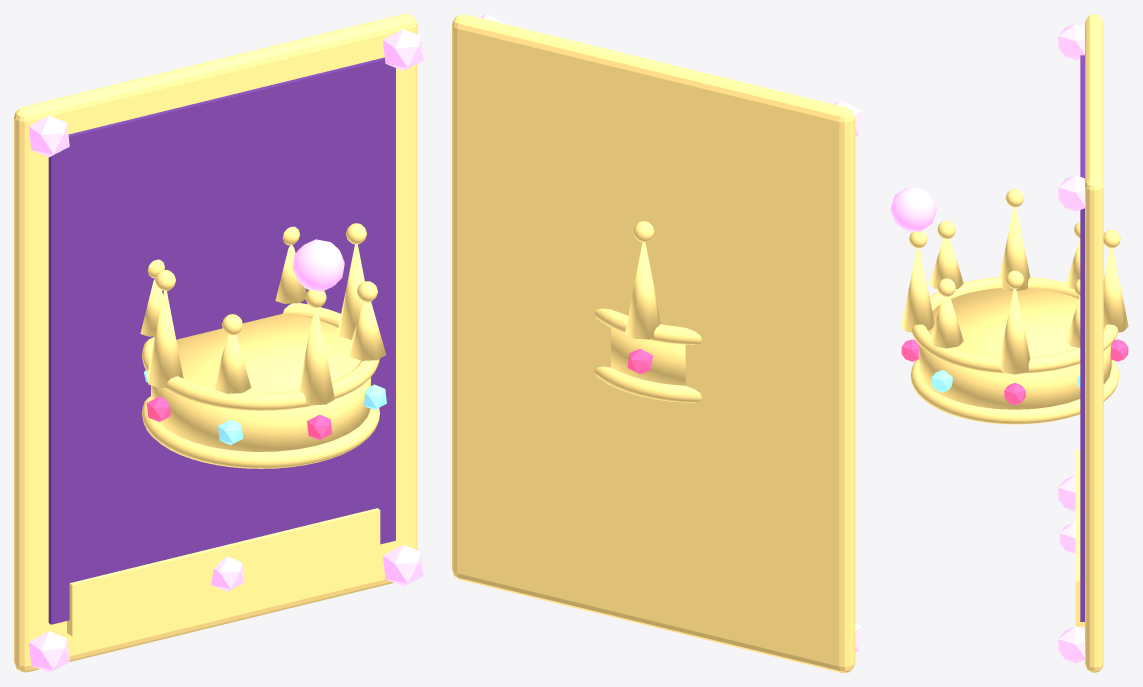
Rendered from Crown_of_Ages.glb.
3 views of the same model, side by side, from view 1: azimuth 30°, elevation 25°; view 2: azimuth 150°, elevation 25°; view 3: azimuth 270°, elevation 25° (orthographic). The views are drawn at different scales.
Parts seen in each view (by area): view 1: Cube.008, Cube.007, Cube.009, Cylinder, Torus.002, Torus.001, Icosphere.036, Cone.012, Cone.018, Cone.013, Cone.019, Cone.014 (+7 smaller); view 2: Cube.007, Cylinder, Cone.016, Torus.002, Torus.001; view 3: Cube.007, Cylinder, Torus.001, Torus.002, Cube.008, Icosphere.036, Cone.014, Cone.012, Cone.016, Cone.018, Cone.013, Cube.009 (+10 smaller).
Part boxes in pixels (box(x1,y1,x2,y2)): Cube.008: box(48, 57, 395, 624); Cube.007: box(14, 14, 417, 672); Cube.009: box(67, 508, 380, 636); Cylinder: box(151, 313, 370, 451); Torus.002: box(142, 396, 379, 468); Torus.001: box(142, 303, 379, 410); Icosphere.036: box(292, 239, 344, 291); Cone.012: box(298, 308, 334, 405); Cone.018: box(146, 291, 183, 388); Cone.013: box(348, 301, 385, 360); Cone.019: box(213, 334, 251, 393); Cone.014: box(338, 244, 364, 339); Cube.007: box(452, 14, 855, 672); Cylinder: box(611, 327, 685, 385); Cone.016: box(625, 242, 660, 339); Torus.002: box(594, 366, 701, 402); Torus.001: box(594, 308, 701, 344); Cube.007: box(1085, 14, 1103, 672); Cylinder: box(918, 288, 1111, 409); Torus.001: box(911, 277, 1118, 373); Torus.002: box(910, 360, 1119, 424); Cube.008: box(1080, 55, 1084, 621); Icosphere.036: box(890, 187, 936, 231); Cone.014: box(999, 289, 1030, 374); Cone.012: box(901, 248, 934, 332); Cone.016: box(1103, 248, 1128, 332); Cone.018: box(999, 207, 1030, 290); Cone.013: box(929, 296, 963, 348); Cube.009: box(1075, 450, 1084, 626).
Size of the model in its own units: 2.6 by 3.5 by 1.53.
